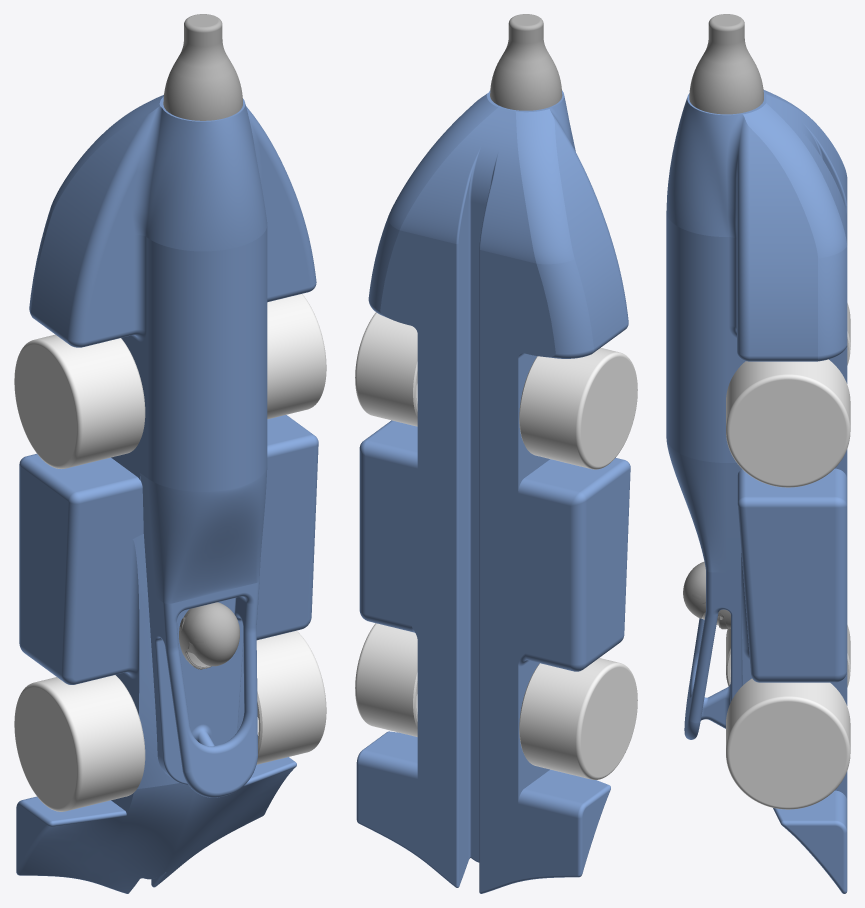
The model's file is car.glb.
3 renders of one model, left to right at view 1: azimuth 30°, elevation 25°; view 2: azimuth 150°, elevation 25°; view 3: azimuth 270°, elevation 25°, orthographic. The views are drawn at different scales.
Parts seen in each view (by area): view 1: car_body, wheel3, wheel4, wheel1, wheel2, cartridge, Solid1; view 2: car_body, wheel3, wheel4, wheel1, wheel2, cartridge; view 3: car_body, wheel1, wheel2, cartridge, Solid1, wheel3.
Boxes of the visible parts, x1,y1,x2,y2 form: car_body: (16,95,318,893); wheel3: (14,675,145,811); wheel4: (14,334,145,468); wheel1: (256,630,326,764); wheel2: (267,294,326,419); cartridge: (163,14,242,120); Solid1: (179,602,239,669); car_body: (356,90,630,893); wheel3: (519,658,637,779); wheel4: (519,348,637,469); wheel1: (355,623,417,736); wheel2: (355,312,417,426); cartridge: (490,14,562,110); car_body: (666,90,847,893); wheel1: (726,678,850,809); wheel2: (726,359,850,487); cartridge: (689,14,763,114); Solid1: (683,561,730,629); wheel3: (726,625,850,687).
Size of the model in its own units: 0.065 by 0.2284 by 0.0443.
